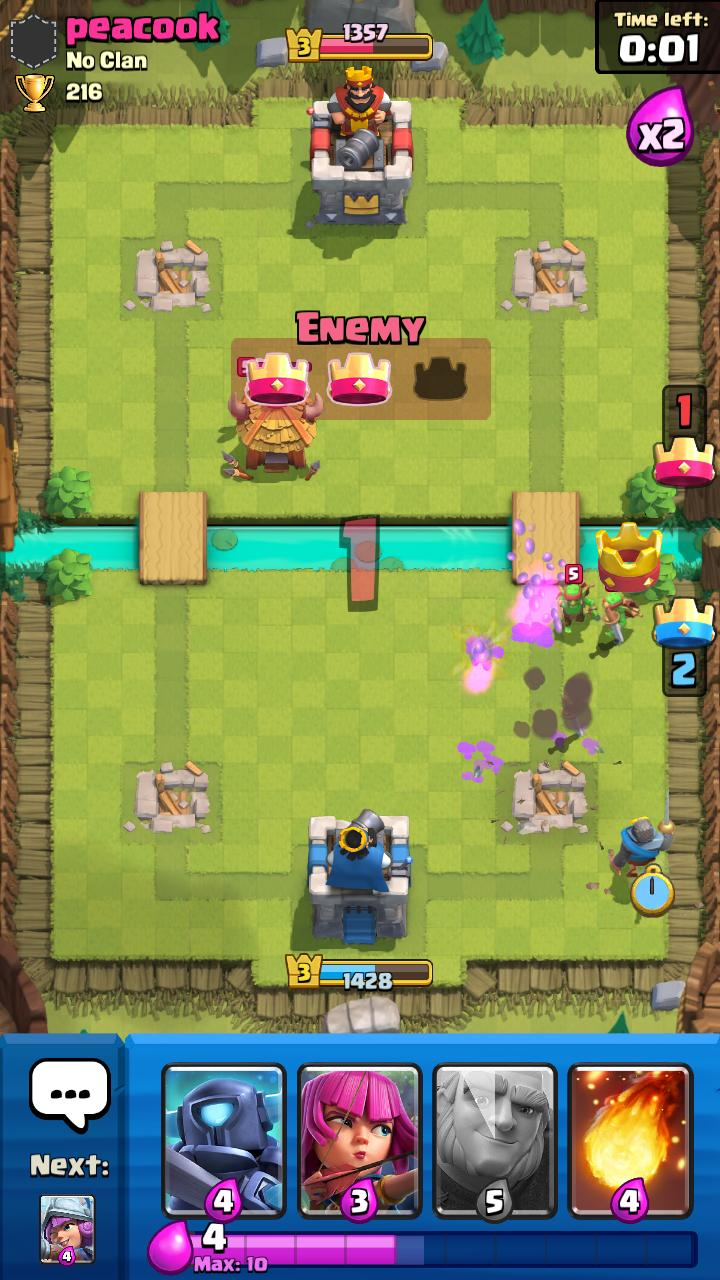ally: (610, 789, 675, 877)
enemy: (222, 357, 324, 481), (556, 564, 601, 633), (602, 586, 644, 647)
